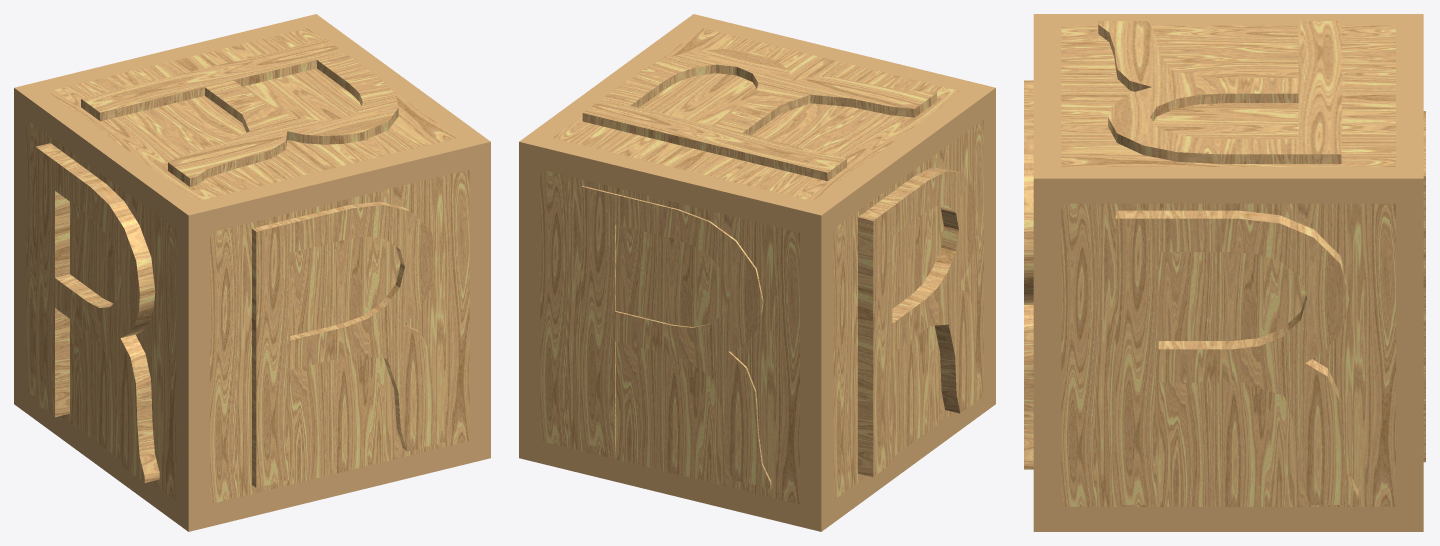
The model's file is Block R.fbx.
The picture shows the model from 3 angles, left to right: view 1: azimuth 30°, elevation 25°; view 2: azimuth 150°, elevation 25°; view 3: azimuth 270°, elevation 25°; orthographic projection. The views are drawn at different scales.
Visible parts, largest first — view 1: Box, FRONT, LEFT, TOP; view 2: Box, BACK, LEFT, TOP; view 3: Box, RIGHT, TOP, FRONT, BACK.
Part boxes in pixels (x1,y1,x2,y2): Box: (14, 14, 490, 531); FRONT: (252, 201, 445, 487); LEFT: (35, 143, 159, 482); TOP: (81, 39, 398, 186); Box: (519, 14, 995, 531); BACK: (581, 186, 771, 488); LEFT: (858, 167, 982, 477); TOP: (582, 48, 936, 181); Box: (1033, 14, 1423, 531); RIGHT: (1115, 210, 1359, 504); TOP: (1098, 21, 1341, 163); FRONT: (1024, 80, 1033, 469); BACK: (1423, 111, 1425, 462).
Bounding box in the file's own units: 1.1 × 1.04 × 1.03.
Materials: 2 (2 with a texture image).
